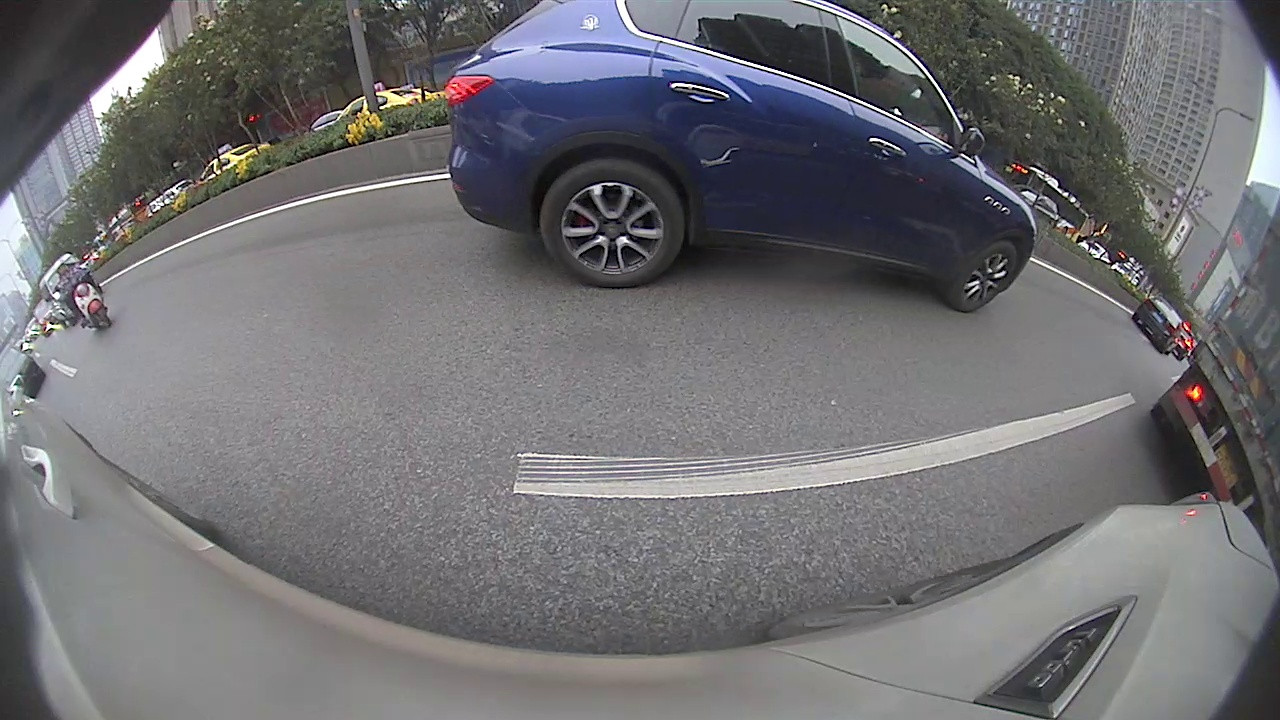car: (442, 3, 1034, 315), (1133, 298, 1183, 354)
front: (950, 242, 1019, 315)
rear: (542, 156, 682, 290)
